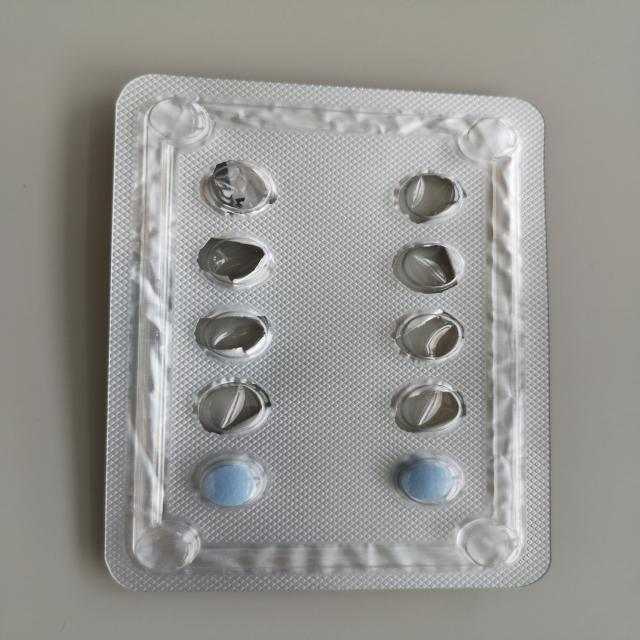Empty: (188, 376, 270, 438), (190, 306, 274, 364), (197, 156, 276, 216), (389, 166, 469, 225), (193, 233, 275, 290), (387, 240, 467, 294), (388, 309, 465, 365), (388, 378, 467, 432)
Pill: (185, 453, 271, 510), (393, 454, 469, 507)
